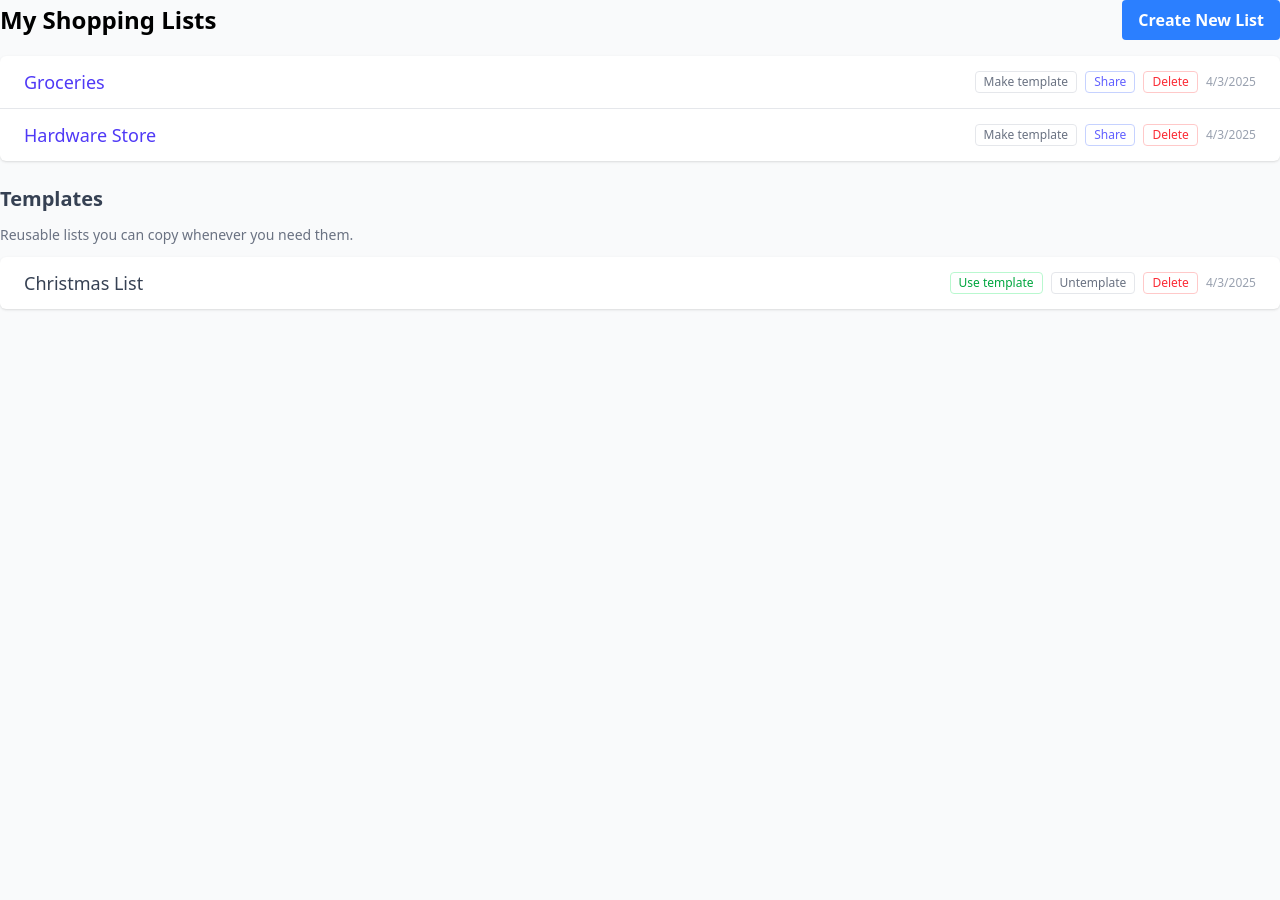
Scenario: ShoppingListsPage Component › opens Use template modal when 'Use template' is clicked
Expected: the text "Christmas List" is shown, x1=24 y1=269 x2=143 y2=297
Click the button "Use template": x=996, y=283 x1=950 y1=272 x2=1042 y2=294
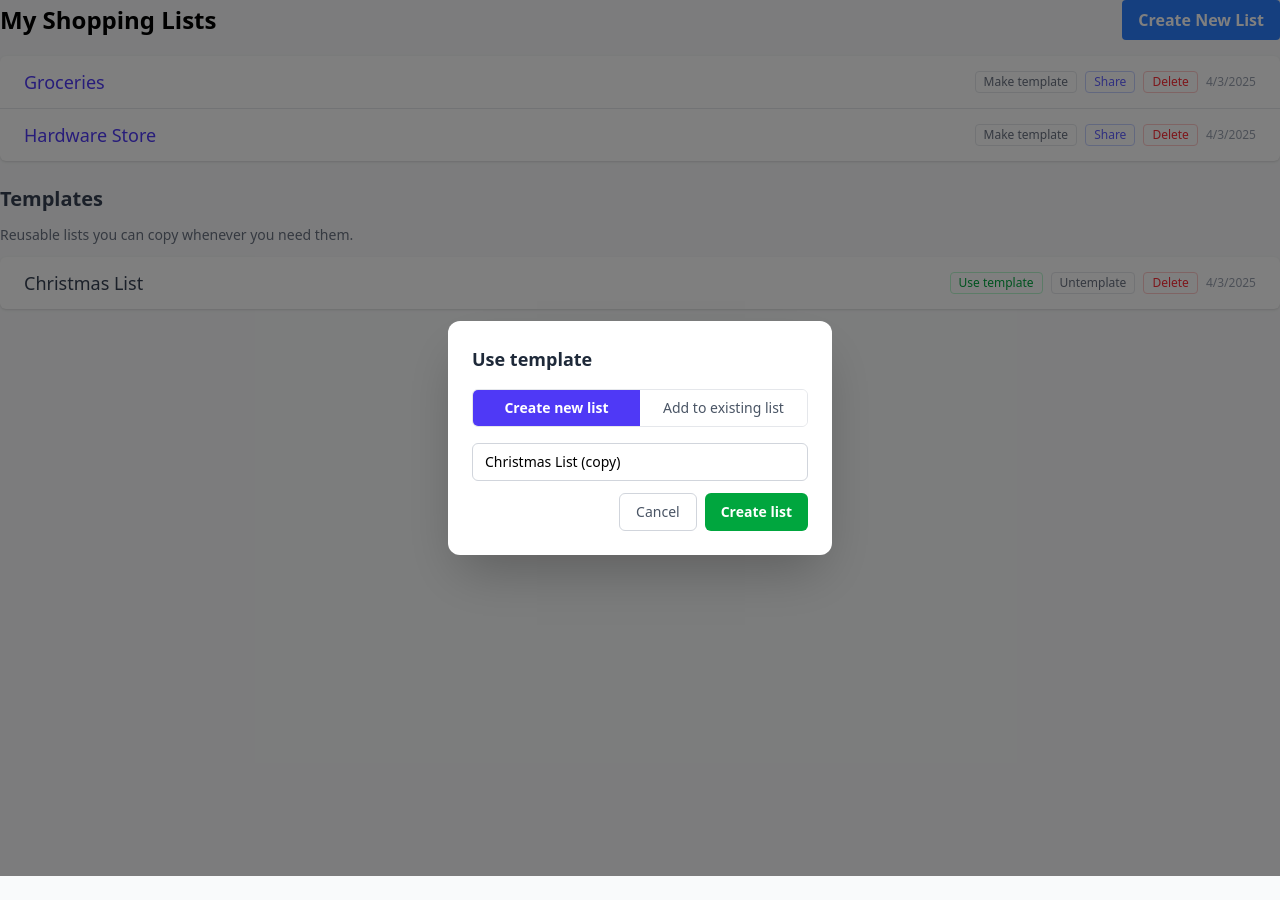
Expected: the button "Create new list" is shown, x1=473 y1=390 x2=640 y2=426
Expected: the button "Add to existing list" is shown, x1=640 y1=390 x2=807 y2=426
Expected: the field with placeholder "New list name" is shown, x1=472 y1=443 x2=808 y2=481
